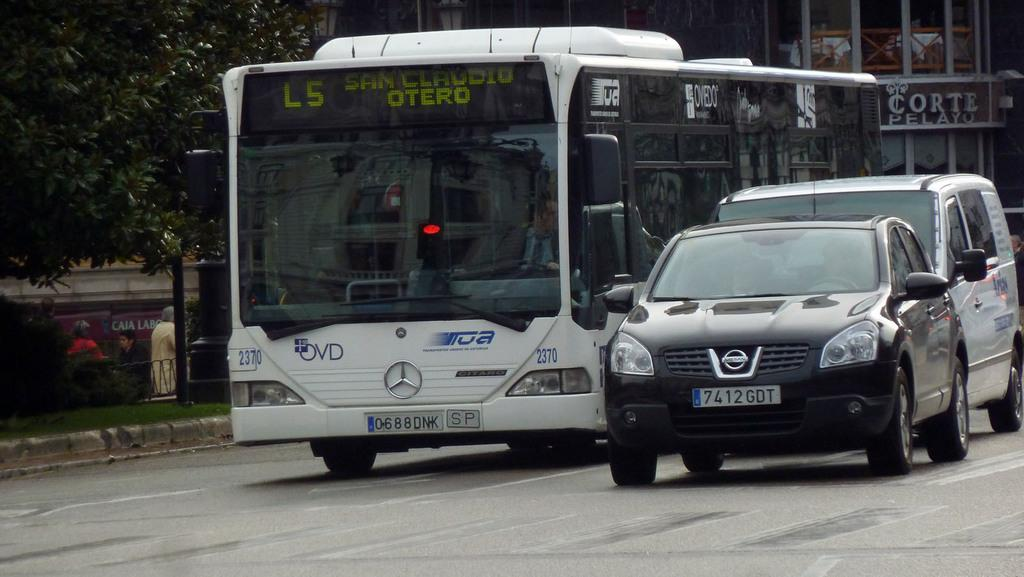vehicle: (184, 26, 886, 473), (603, 213, 970, 483), (708, 173, 1022, 433)
